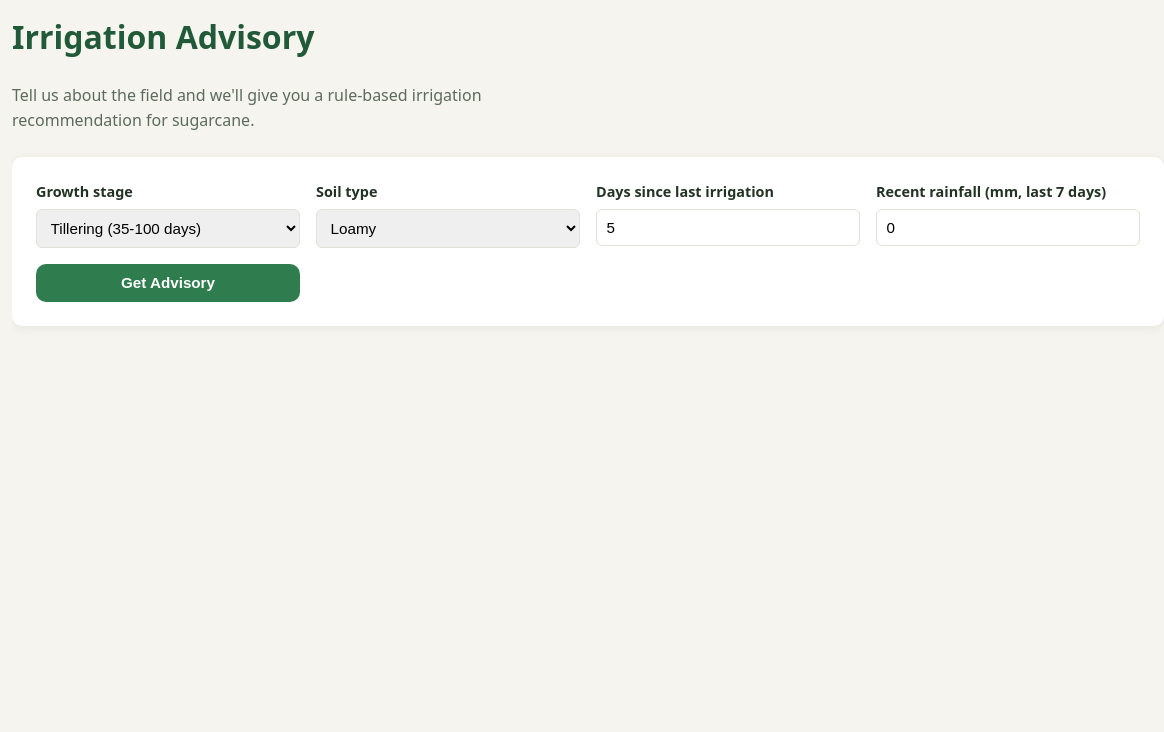
Test: Advisory page › renders the form and shows a recommendation after submit
Expected: the heading "Irrigation Advisory" is shown, [12,15,314,58]
Click the button "Get Advisory": {"x": 168, "y": 283} [36,264,300,302]
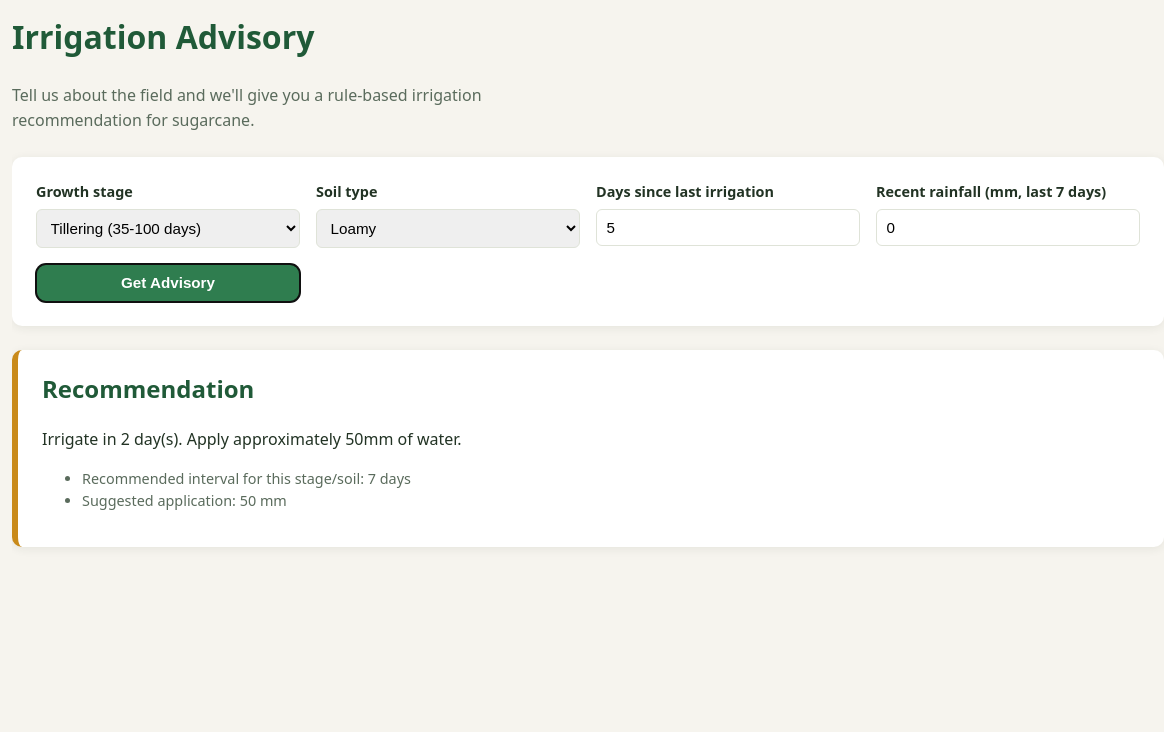
Expected: the heading "Recommendation" is shown, [42,372,254,405]
